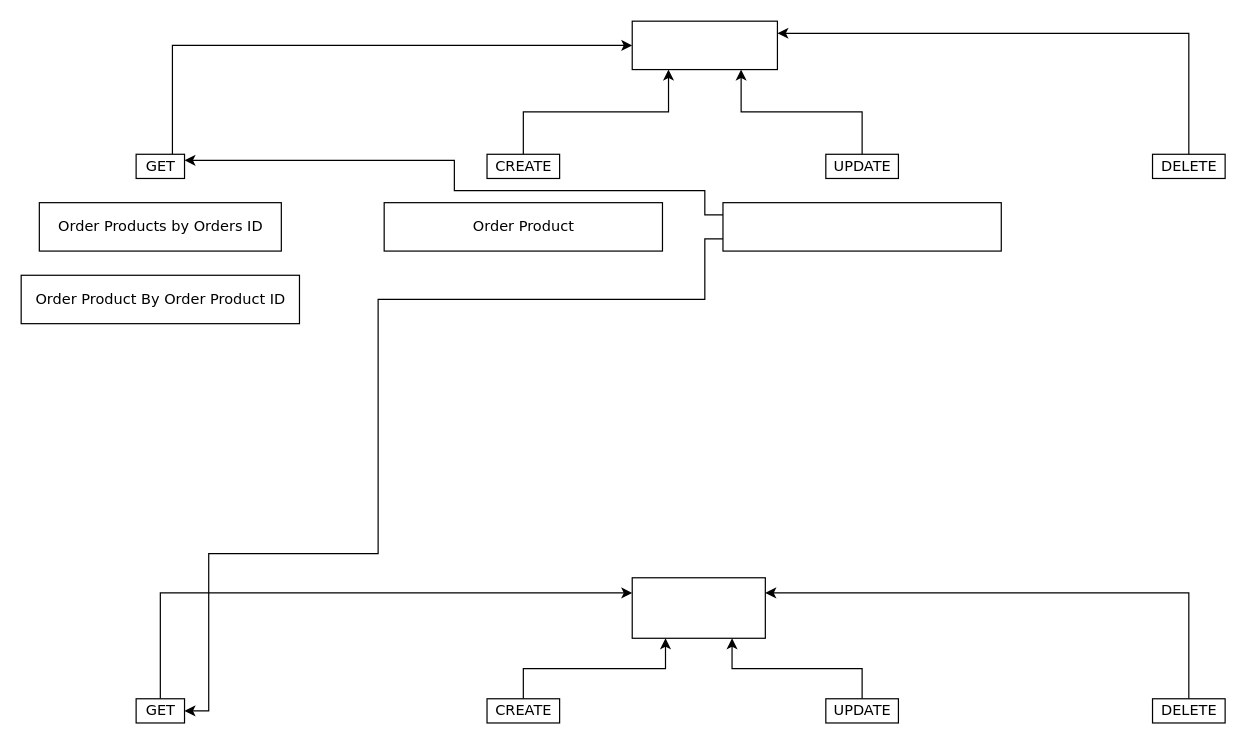
Image size: 1246x744. Some labels were removed from this diagram. Here are the shapes that lost their labels. From the top down, the centre of each, then its label:
At (x=704, y=45): "OrderProduct".
At (x=861, y=226): "Update Order Product + Stock".
At (x=698, y=607): "Product".
